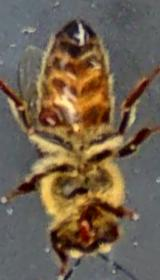varroa_mite: (30, 100, 66, 134)
